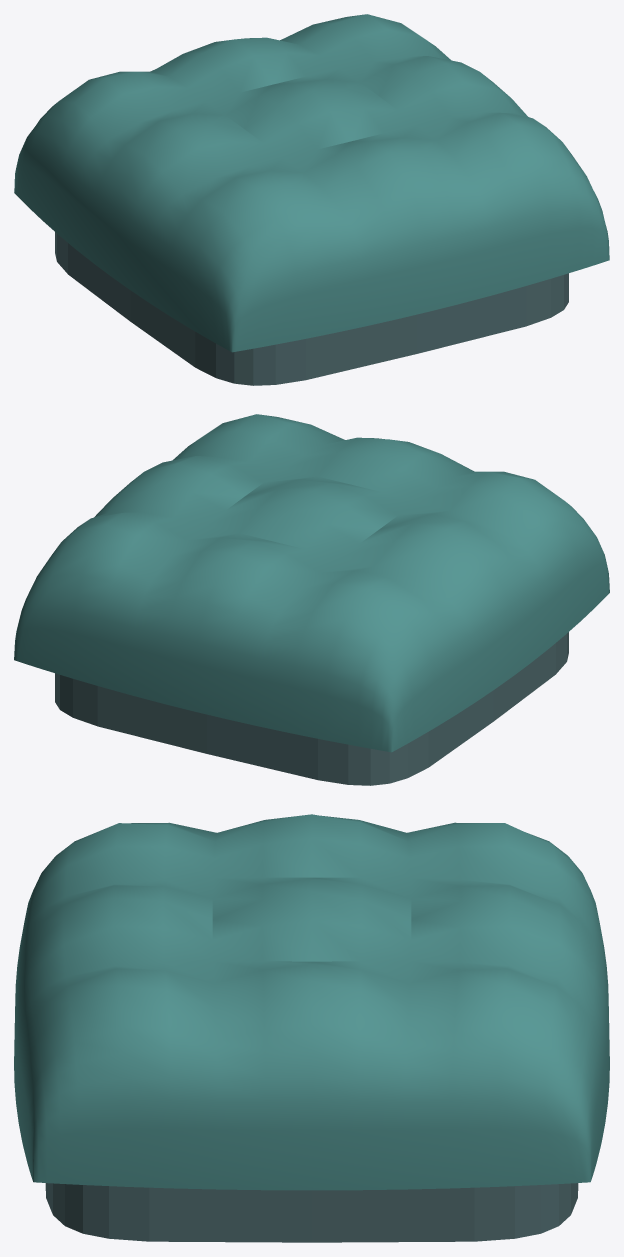
File: KC32__AD_Int_Sofa_Mod_Ottoman.glb
3 renders of one model, top to bottom at view 1: azimuth 30°, elevation 25°; view 2: azimuth 150°, elevation 25°; view 3: azimuth 270°, elevation 25°, orthographic. The views are drawn at different scales.
Parts seen in each view (by area): view 1: KC32_CORPS__AD_Int_Sofa_Mod_Ottoman; view 2: KC32_CORPS__AD_Int_Sofa_Mod_Ottoman; view 3: KC32_CORPS__AD_Int_Sofa_Mod_Ottoman.
Boxes of the visible parts, left/top/right/bottom form: KC32_CORPS__AD_Int_Sofa_Mod_Ottoman: left=14, top=14, right=609, bottom=385; KC32_CORPS__AD_Int_Sofa_Mod_Ottoman: left=14, top=414, right=609, bottom=785; KC32_CORPS__AD_Int_Sofa_Mod_Ottoman: left=14, top=814, right=609, bottom=1242.
Size of the model in its own units: 1 by 0.44 by 1.
